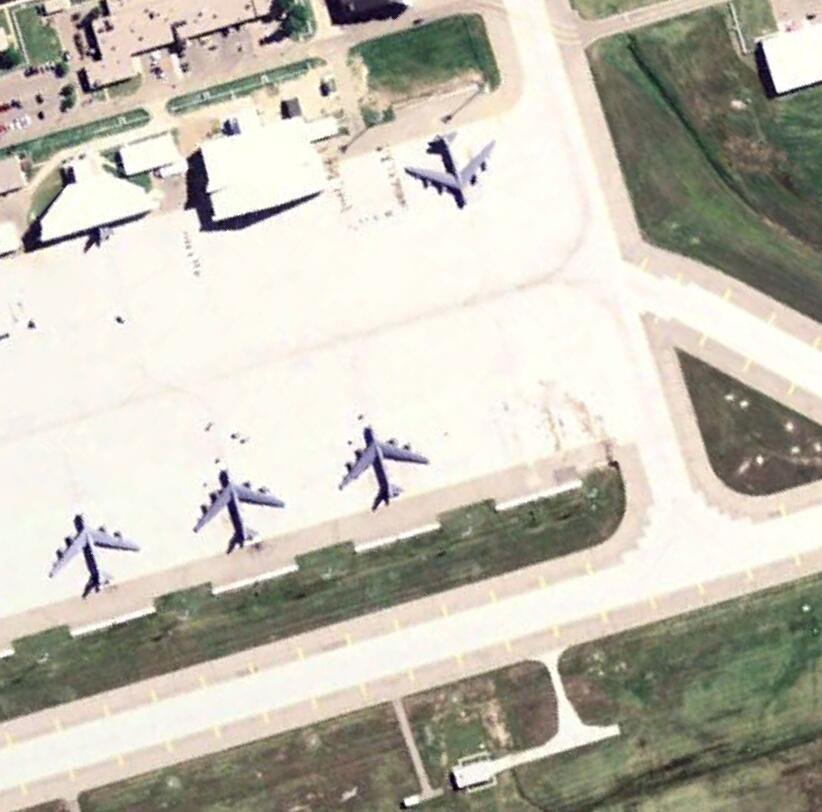A8: (336, 424, 436, 512), (44, 512, 142, 600), (403, 132, 502, 216), (190, 469, 286, 555)
